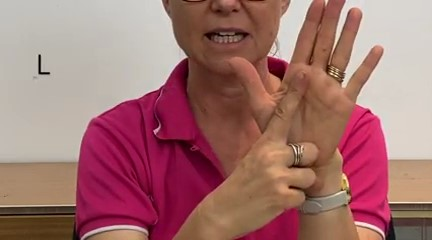L: (230, 1, 397, 231)
